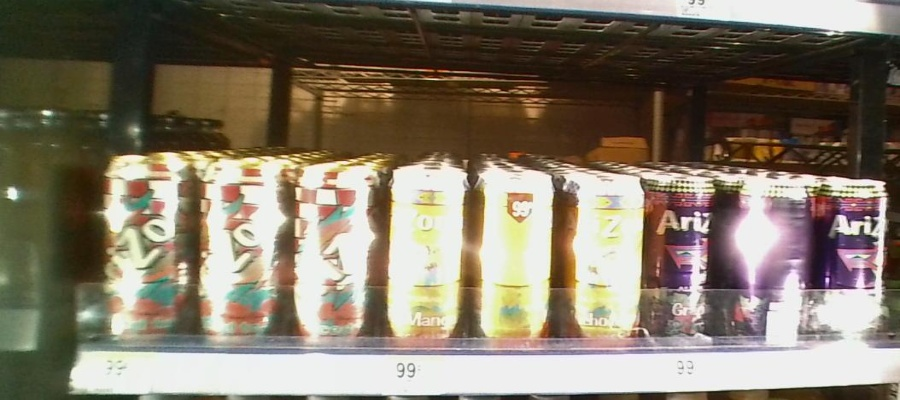bottle: (97, 140, 196, 351), (288, 146, 383, 350), (385, 151, 468, 356), (558, 153, 646, 341), (201, 157, 286, 347), (470, 150, 556, 336), (730, 165, 815, 342), (648, 157, 719, 339), (819, 167, 890, 347)
